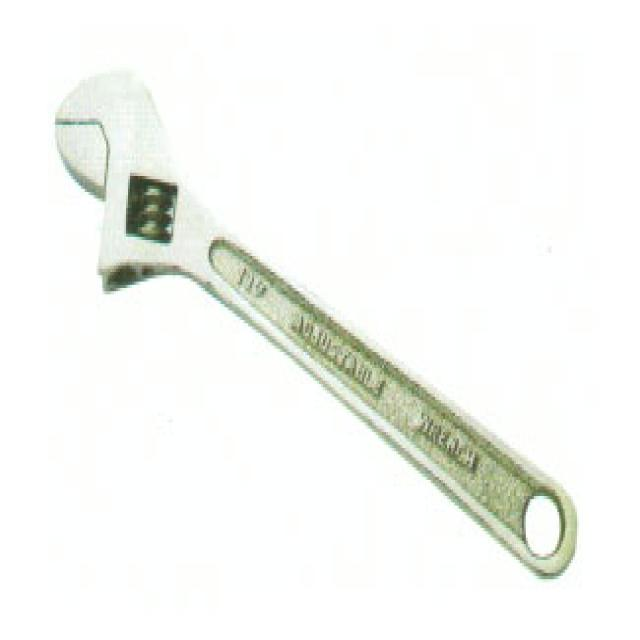wrench: (42, 33, 605, 594)
